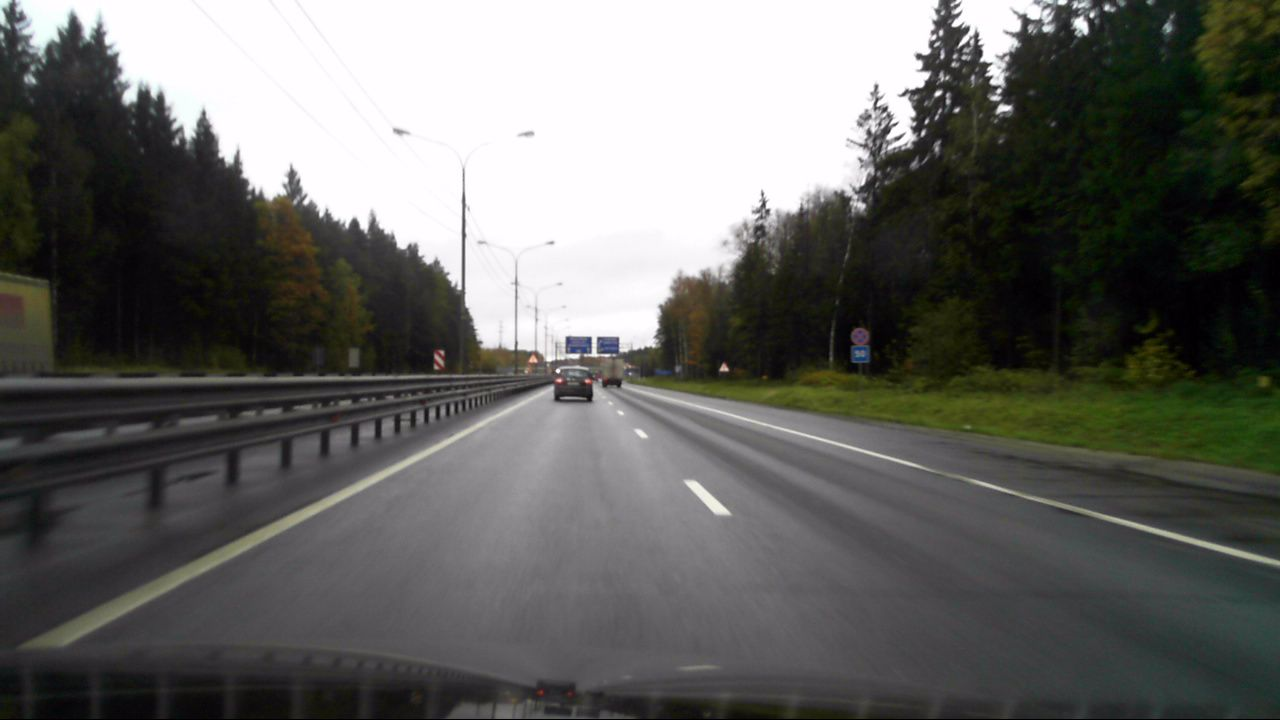No Parking: (850, 327, 869, 346)
